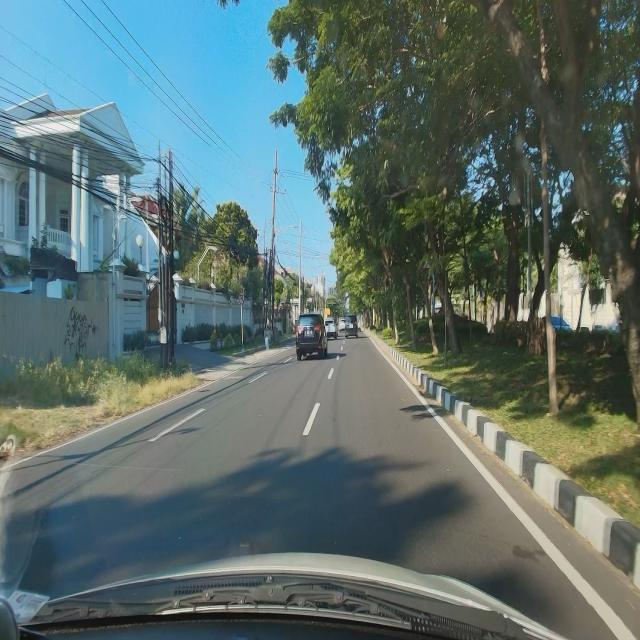car: (295, 313, 329, 362)
